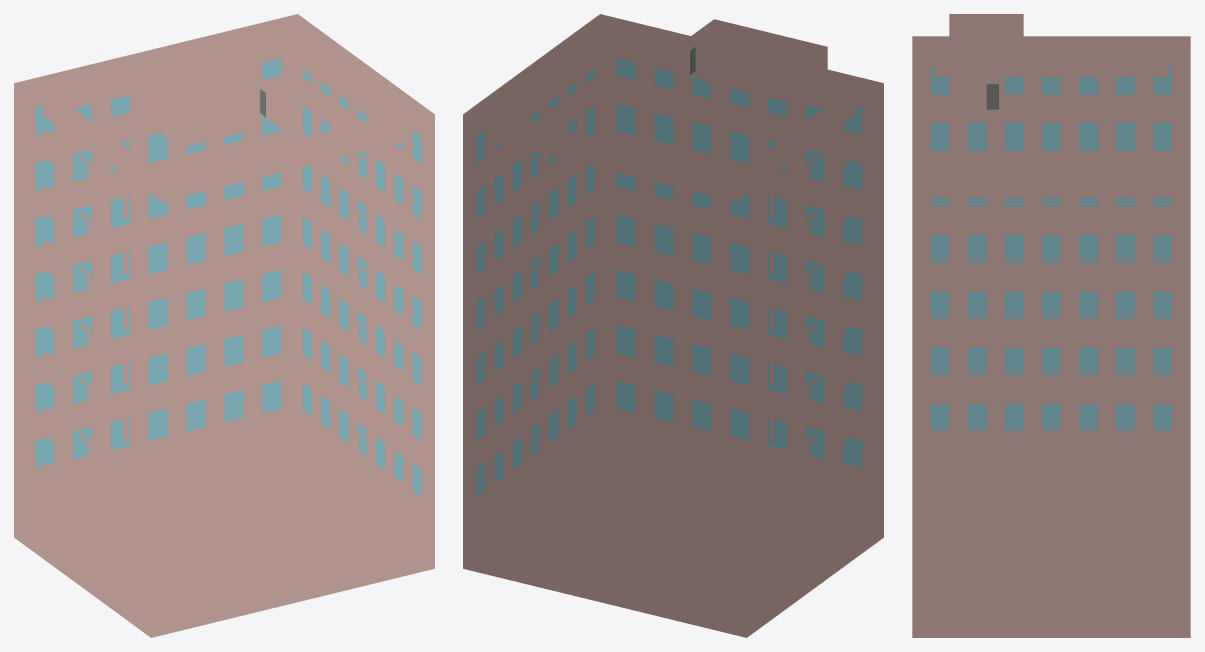
3 views of the same model, side by side, from view 1: azimuth 30°, elevation 25°; view 2: azimuth 150°, elevation 25°; view 3: azimuth 270°, elevation 25° (orthographic).
Visible parts, largest first — view 1: House_Base.002; view 2: House_Base.002; view 3: House_Base.002.
Boxes of the visible parts, <box> form: House_Base.002: <box>14,14,434,637</box>; House_Base.002: <box>463,14,883,637</box>; House_Base.002: <box>912,14,1190,637</box>.
Bounding box in the file's own units: 56.45 × 94.13 × 47.26.
